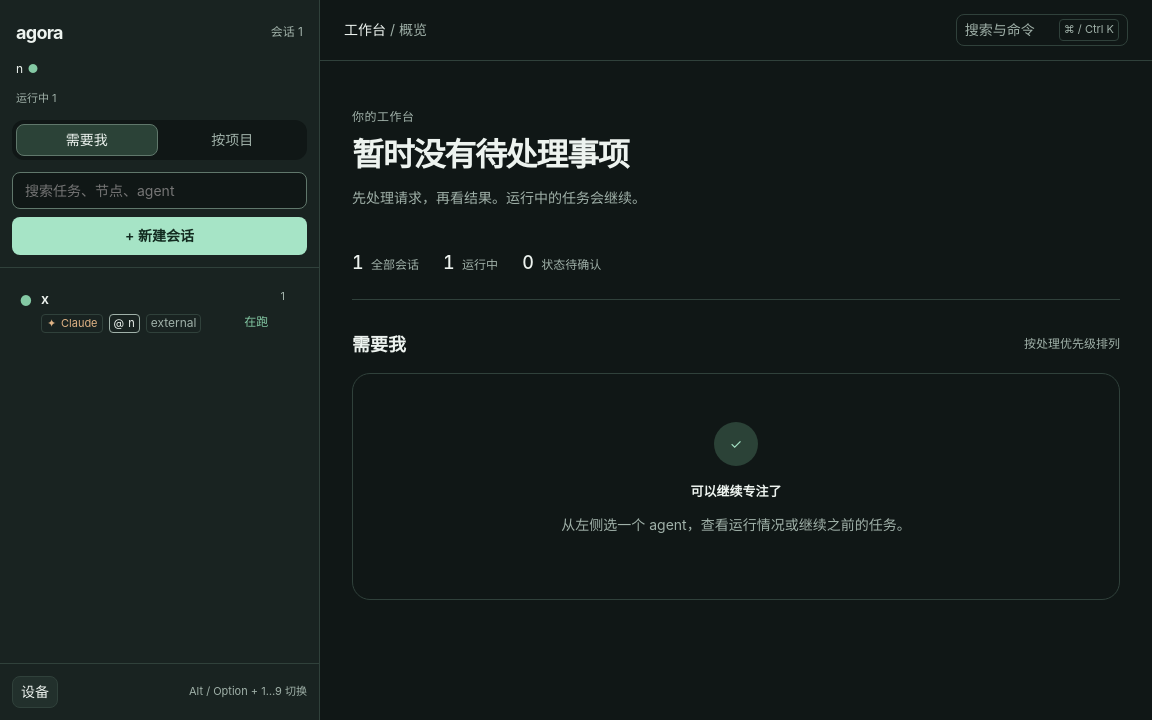
Workspace › an external session is tagged in the sidebar and opens without a terminal (A16)
Expected: the text "external" is shown, [146, 314, 202, 333]
Click the button with test id "row-n:x": (72, 324) [10, 276, 294, 346]
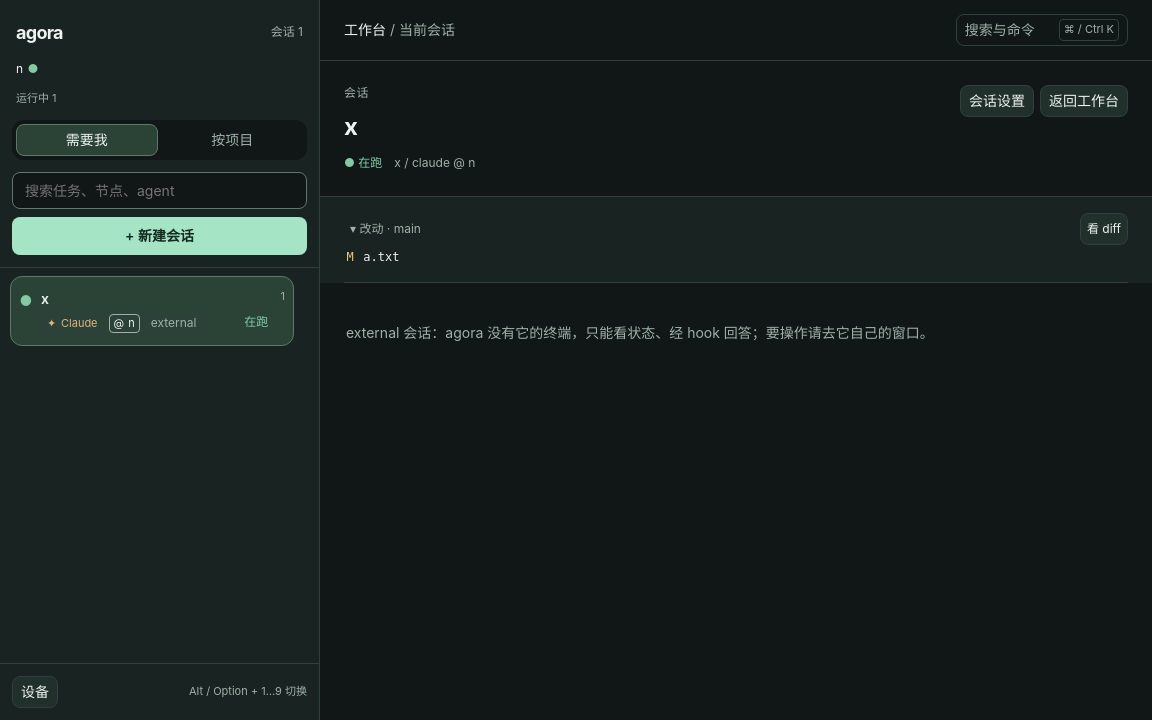
Now the text "external 会话：agora 没有它的终端，只能看状态、经 hook 回答；要操作请去它自己的窗口。" is shown, box [346, 324, 934, 341]
